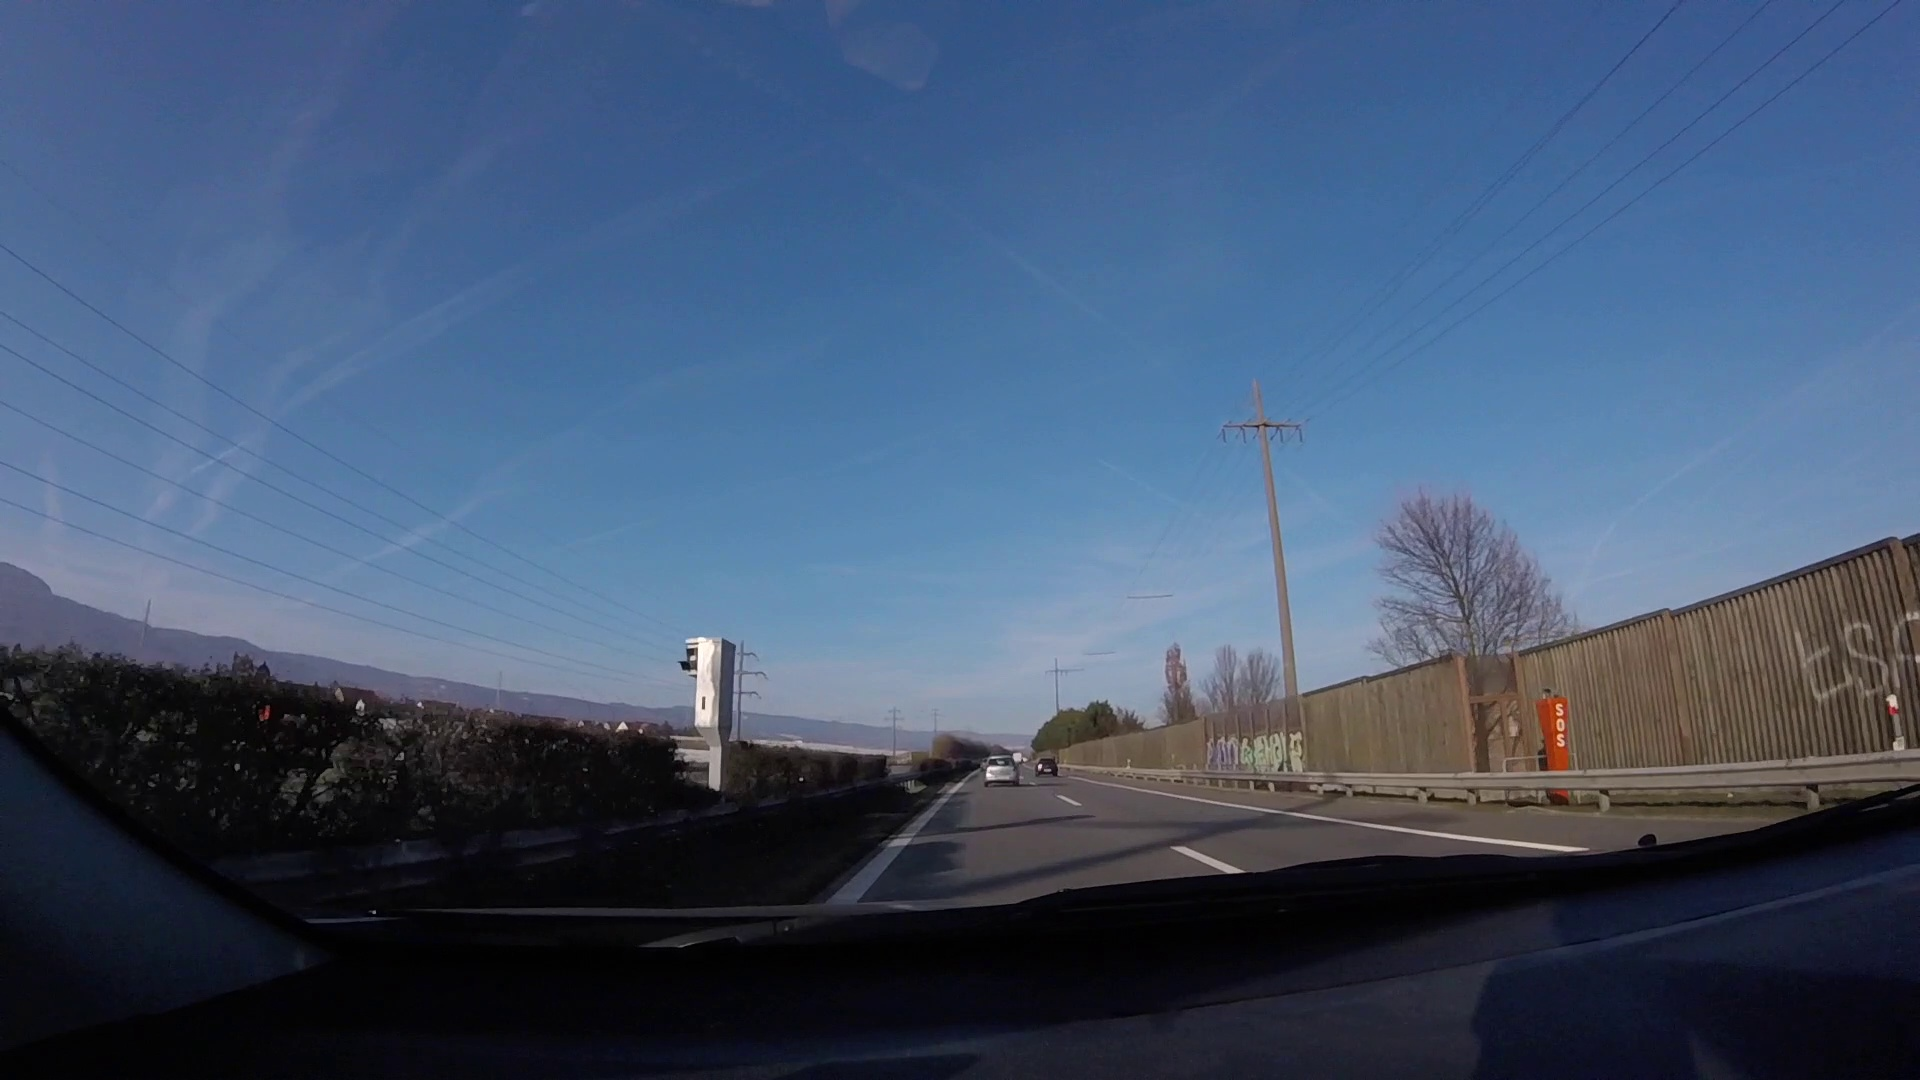radar: (678, 636, 740, 794)
